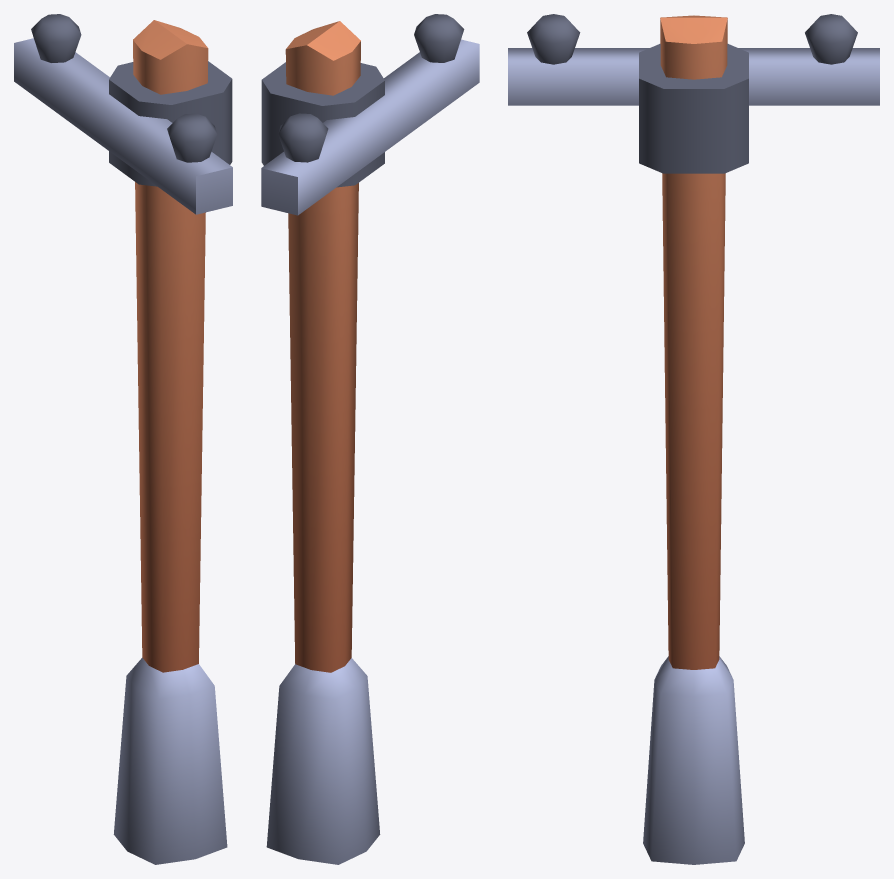
Rendered from electricity-pole-single.glb.
3 views of the same model, side by side, from view 1: azimuth 30°, elevation 25°; view 2: azimuth 150°, elevation 25°; view 3: azimuth 270°, elevation 25° (orthographic). The views are drawn at different scales.
Visible parts, largest first — view 1: electricity-pole-single; view 2: electricity-pole-single; view 3: electricity-pole-single.
Boxes of the visible parts, x1,y1,x2,y2 form: electricity-pole-single: [14, 14, 232, 864]; electricity-pole-single: [261, 14, 479, 864]; electricity-pole-single: [508, 14, 879, 864].
Bounding box in the file's own units: 0.0791 × 0.525 × 0.2142.
Materials: 1 (1 with a texture image).
